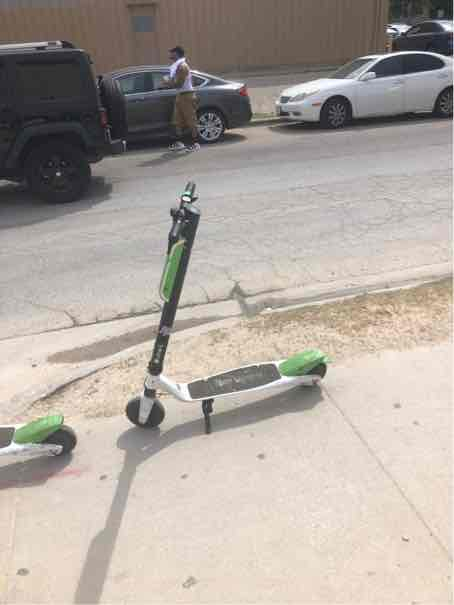scooter: (167, 117, 446, 334)
